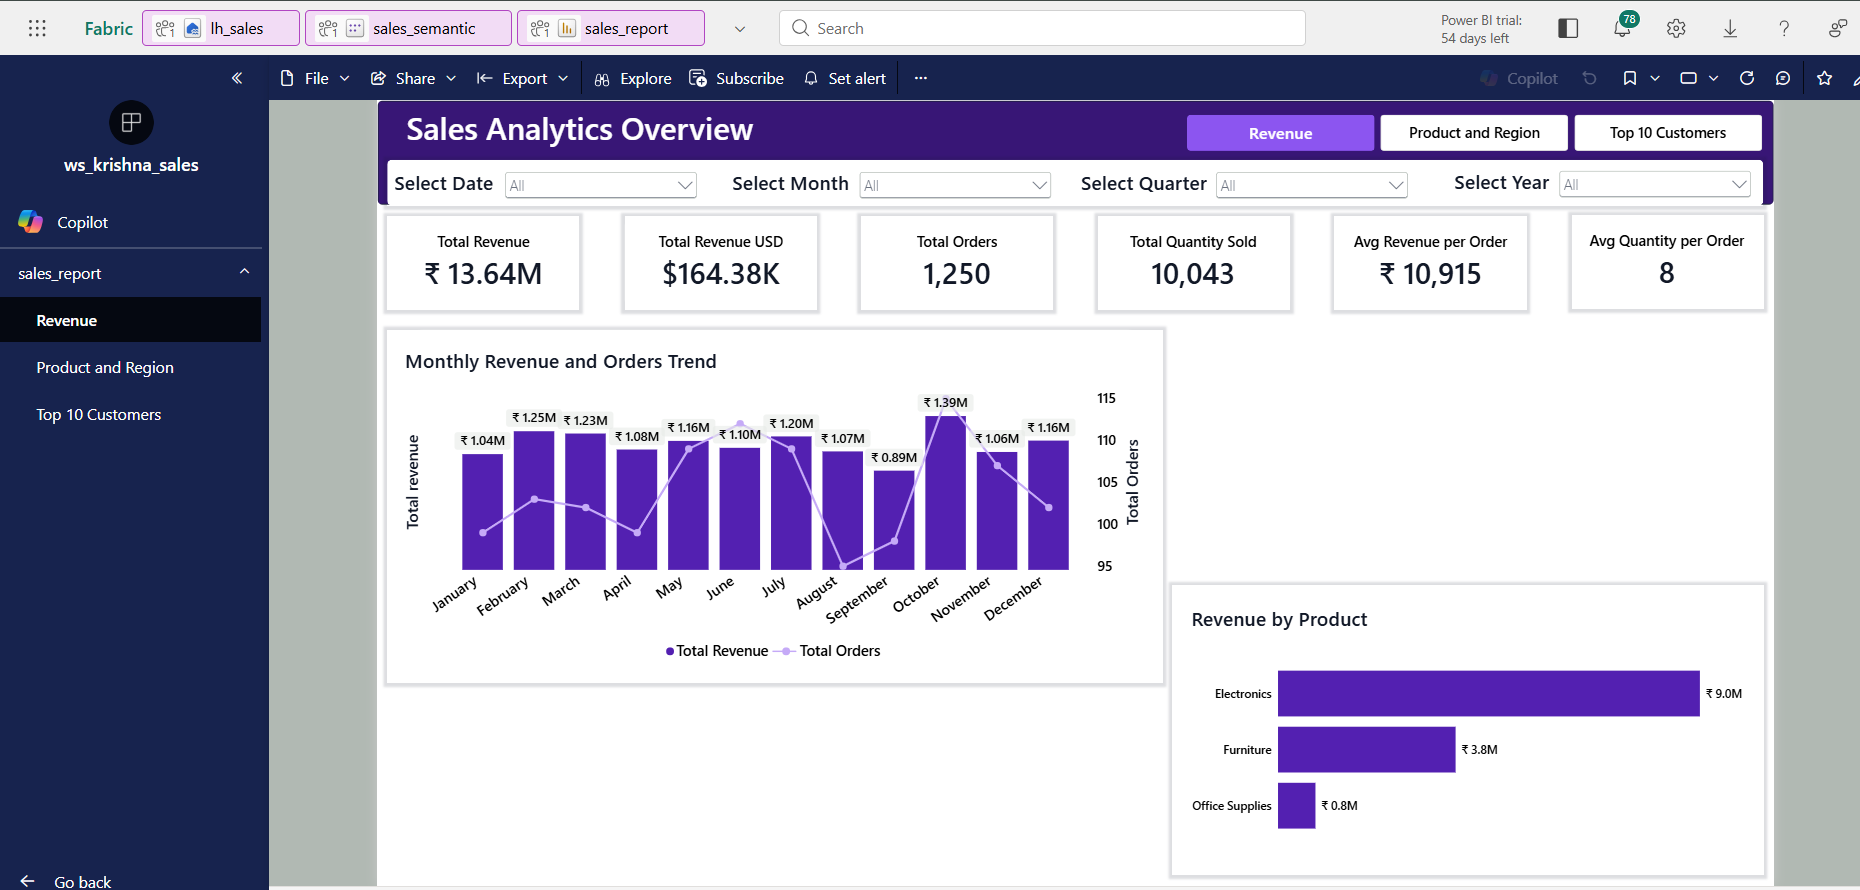

The dashboard page shown, as its layout file describes it:
{"tool":"powerbi","page":{"name":"Revenue ","canvas":[1920,1080],"ordinal":0},"visuals":[{"type":"shape","box":[0,0,1920.1,144.8],"z":0},{"type":"textbox","box":[1457.3,92.6,175.5,43.4],"z":0,"group":"g3"},{"type":"textbox","box":[480.5,94.1,175.5,43.4],"z":0,"group":"g2"},{"type":"textbox","box":[966.4,94.1,175.5,43.4],"z":0,"group":"g4"},{"type":"textbox","box":[14.5,95.9,155.6,38],"z":0,"group":"g1"},{"type":"textbox","box":[0,9,557.4,72.4],"z":1000},{"type":"slicer","fields":{"Values":["dim_date.year"]},"box":[1617.8,90.5,275.1,47.1],"z":1000,"group":"g3"},{"type":"slicer","fields":{"Values":["dim_date.full_date"]},"box":[170.1,92.3,275.1,47.1],"z":1000,"group":"g1"},{"type":"slicer","fields":{"Values":["dim_date.month_name"]},"box":[656,92.3,275.1,47.1],"z":1000,"group":"g2"},{"type":"slicer","fields":{"Values":["dim_date.quarter"]},"box":[1146.9,92.6,275.1,47.1],"z":1000,"group":"g4"},{"type":"shape","box":[14.5,159.3,264.2,128.5],"z":2000},{"type":"shape","box":[339.9,159.3,264.2,128.5],"z":3000},{"type":"shape","box":[665.2,159.3,264.2,128.5],"z":4000},{"type":"shape","box":[1316,159.3,264.2,128.5],"z":5000},{"type":"shape","box":[1641.4,157.4,264.2,128.5],"z":6000},{"type":"shape","box":[990.6,159.3,264.2,128.5],"z":7000},{"type":"shape","box":[14.5,81.4,1891.1,63.3],"z":8000},{"type":"group","id":"g1","title":"Group 1","box":[14.5,92.3,430.7,47.1],"z":9000},{"type":"group","id":"g2","title":"Group 2","box":[480.5,92.3,450.6,47.1],"z":10000},{"type":"group","id":"g3","title":"Group 4","box":[1457.3,90.5,435.6,47.1],"z":11000},{"type":"group","id":"g4","title":"Group 3","box":[966.4,92.6,455.6,47.1],"z":12000},{"type":"cardVisual","fields":{"Data":["fact_sales.Avg Quantity per Order"]},"box":[1648.6,161.1,249.7,121],"z":13000},{"type":"cardVisual","fields":{"Data":["fact_sales.Avg Revenue per Order"]},"box":[1322.9,162.9,249.7,121],"z":14000},{"type":"cardVisual","fields":{"Data":["fact_sales.Total Quantity Sold"]},"box":[997.1,162.9,249.7,121],"z":15000},{"type":"cardVisual","fields":{"Data":["fact_sales.Total Orders"]},"box":[673.2,162.9,249.7,121],"z":16000},{"type":"cardVisual","fields":{"Data":["fact_sales.Total Revenue USD"]},"box":[347.5,162.9,249.7,121],"z":17000},{"type":"cardVisual","fields":{"Data":["fact_sales.Total Revenue"]},"box":[21.7,162.9,249.7,121],"z":18000},{"type":"shape","box":[14.5,314.9,1065.9,485],"z":19000},{"type":"shape","box":[1093,666,812.5,398.1],"z":20000},{"type":"lineStackedColumnComboChart","title":"Monthly Revenue and Orders Trend","fields":{"Category":["dim_date.month_name"],"Y":["fact_sales.Total Revenue"],"Y2":["fact_sales.Total Orders"]},"box":[21.7,323.9,1049.6,466.9],"z":21000},{"type":"barChart","title":"Revenue by Product","fields":{"Category":["dim_product.product_category"],"Y":["fact_sales.Total Revenue"]},"box":[1102.1,678.6,794.4,372.8],"z":22000},{"type":"pageNavigator","box":[1112.9,19.9,792.6,50.7],"z":22001}]}

Visuals, with their boxes on the page's 1920x1080 design canvas (x1, y1, x2, y2). These are canvas units, not pixel positions in the 1860x890 screenshot, which may show the page scaled, cropped or inside an application window:
shape: {"left": 0, "top": 0, "right": 1920, "bottom": 145}
textbox: {"left": 1457, "top": 93, "right": 1633, "bottom": 136}
textbox: {"left": 480, "top": 94, "right": 656, "bottom": 138}
textbox: {"left": 966, "top": 94, "right": 1142, "bottom": 138}
textbox: {"left": 14, "top": 96, "right": 170, "bottom": 134}
textbox: {"left": 0, "top": 9, "right": 557, "bottom": 81}
slicer - dim_date.year: {"left": 1618, "top": 90, "right": 1893, "bottom": 138}
slicer - dim_date.full_date: {"left": 170, "top": 92, "right": 445, "bottom": 139}
slicer - dim_date.month_name: {"left": 656, "top": 92, "right": 931, "bottom": 139}
slicer - dim_date.quarter: {"left": 1147, "top": 93, "right": 1422, "bottom": 140}
shape: {"left": 14, "top": 159, "right": 279, "bottom": 288}
shape: {"left": 340, "top": 159, "right": 604, "bottom": 288}
shape: {"left": 665, "top": 159, "right": 929, "bottom": 288}
shape: {"left": 1316, "top": 159, "right": 1580, "bottom": 288}
shape: {"left": 1641, "top": 157, "right": 1906, "bottom": 286}
shape: {"left": 991, "top": 159, "right": 1255, "bottom": 288}
shape: {"left": 14, "top": 81, "right": 1906, "bottom": 145}
"Group 1" group: {"left": 14, "top": 92, "right": 445, "bottom": 139}
"Group 2" group: {"left": 480, "top": 92, "right": 931, "bottom": 139}
"Group 4" group: {"left": 1457, "top": 90, "right": 1893, "bottom": 138}
"Group 3" group: {"left": 966, "top": 93, "right": 1422, "bottom": 140}
cardVisual - fact_sales.Avg Quantity per Order: {"left": 1649, "top": 161, "right": 1898, "bottom": 282}
cardVisual - fact_sales.Avg Revenue per Order: {"left": 1323, "top": 163, "right": 1573, "bottom": 284}
cardVisual - fact_sales.Total Quantity Sold: {"left": 997, "top": 163, "right": 1247, "bottom": 284}
cardVisual - fact_sales.Total Orders: {"left": 673, "top": 163, "right": 923, "bottom": 284}
cardVisual - fact_sales.Total Revenue USD: {"left": 348, "top": 163, "right": 597, "bottom": 284}
cardVisual - fact_sales.Total Revenue: {"left": 22, "top": 163, "right": 271, "bottom": 284}
shape: {"left": 14, "top": 315, "right": 1080, "bottom": 800}
shape: {"left": 1093, "top": 666, "right": 1906, "bottom": 1064}
"Monthly Revenue and Orders Trend" lineStackedColumnComboChart: {"left": 22, "top": 324, "right": 1071, "bottom": 791}
"Revenue by Product" barChart: {"left": 1102, "top": 679, "right": 1896, "bottom": 1051}
pageNavigator: {"left": 1113, "top": 20, "right": 1906, "bottom": 71}
